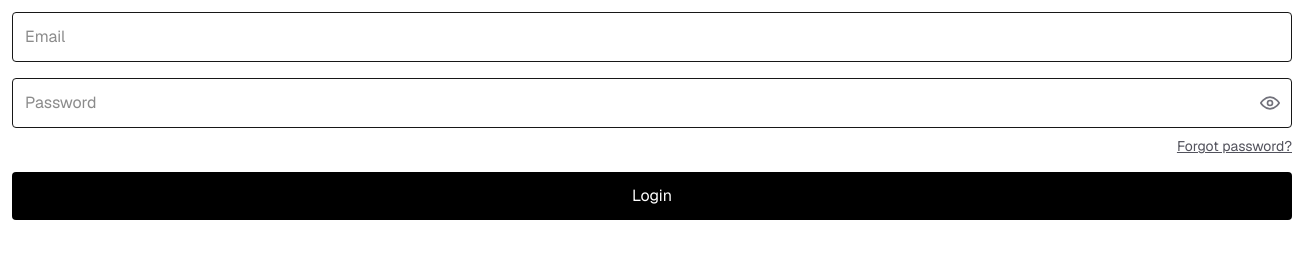
Scenario: LoginForm › shows a generic error and re-enables Login when signIn throws
This screenshot has width=1304, height=273.
Step 1. Type "user@example.com" into the field with placeholder "Email" → coordinates (652, 37), box [12,12,1292,62]
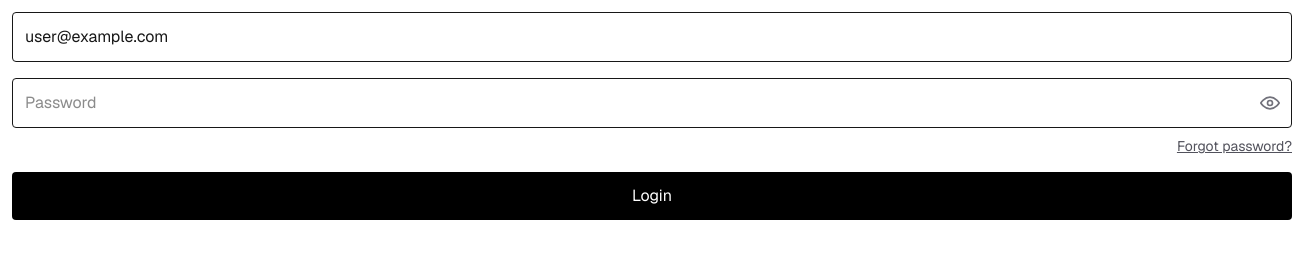
Step 2. Type "correct-password" into the password field with placeholder "Password" → coordinates (652, 103), box [12,78,1292,128]
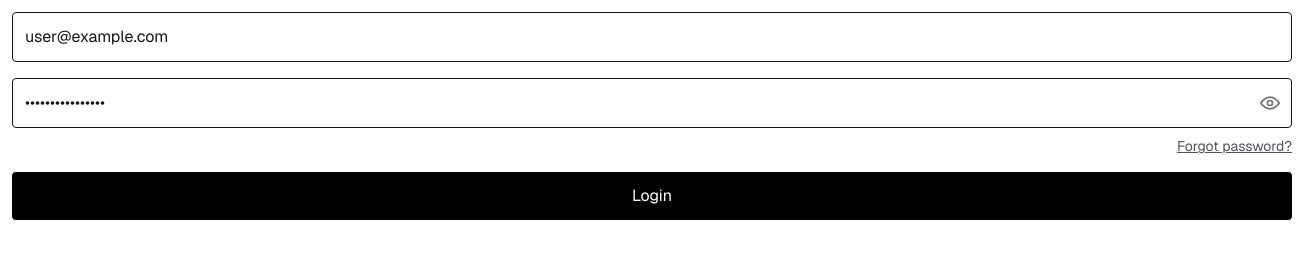
Step 3. Click the button "Login" → coordinates (652, 196), box [12,172,1292,220]
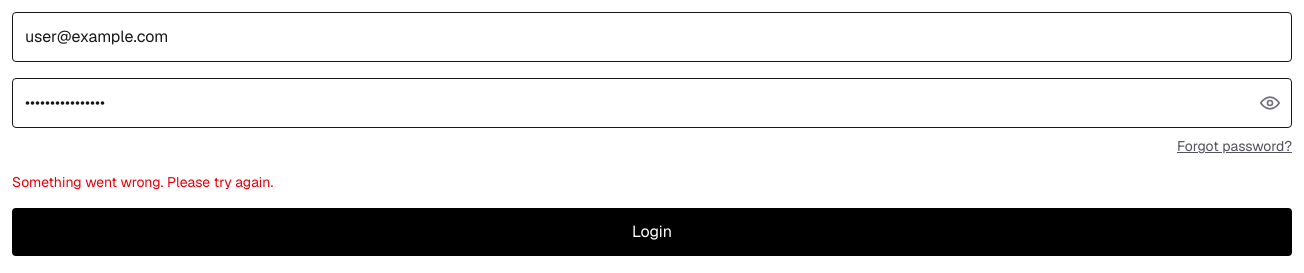
Expected: the button "Login" is enabled, [12,208,1292,256]
Result: the message reads "Something went wrong. Please try again." at [12,173,273,191]
